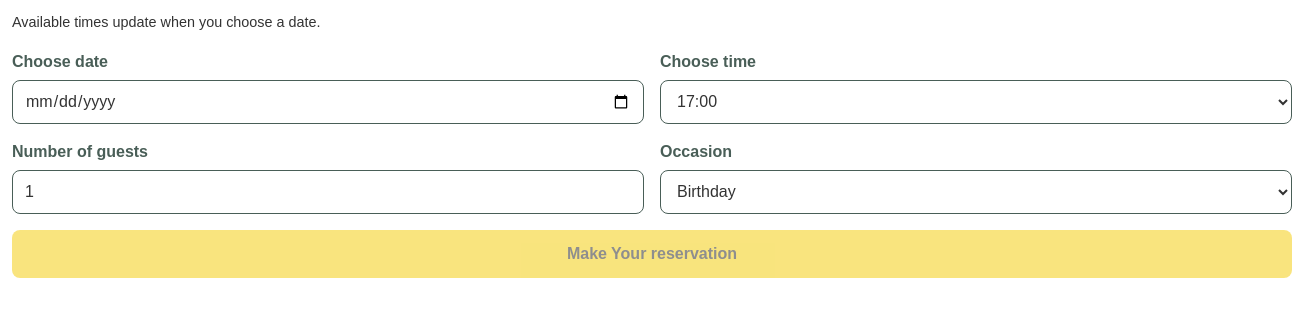
Test: keeps the submit button disabled when guests is zero
This screenshot has width=1304, height=322.
Replace the text in the number field labelled "Number of guests" with "0": (328, 192) [12, 170, 644, 214]
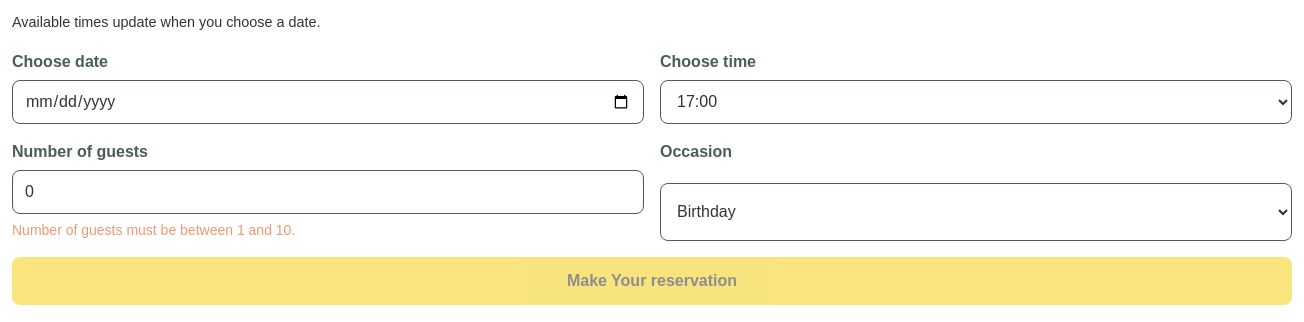
Expected: the button "Make Your reservation" is disabled, [12, 257, 1292, 305]
Now the message reads "Number of guests must be between 1 and 10.", box [12, 222, 295, 238]
